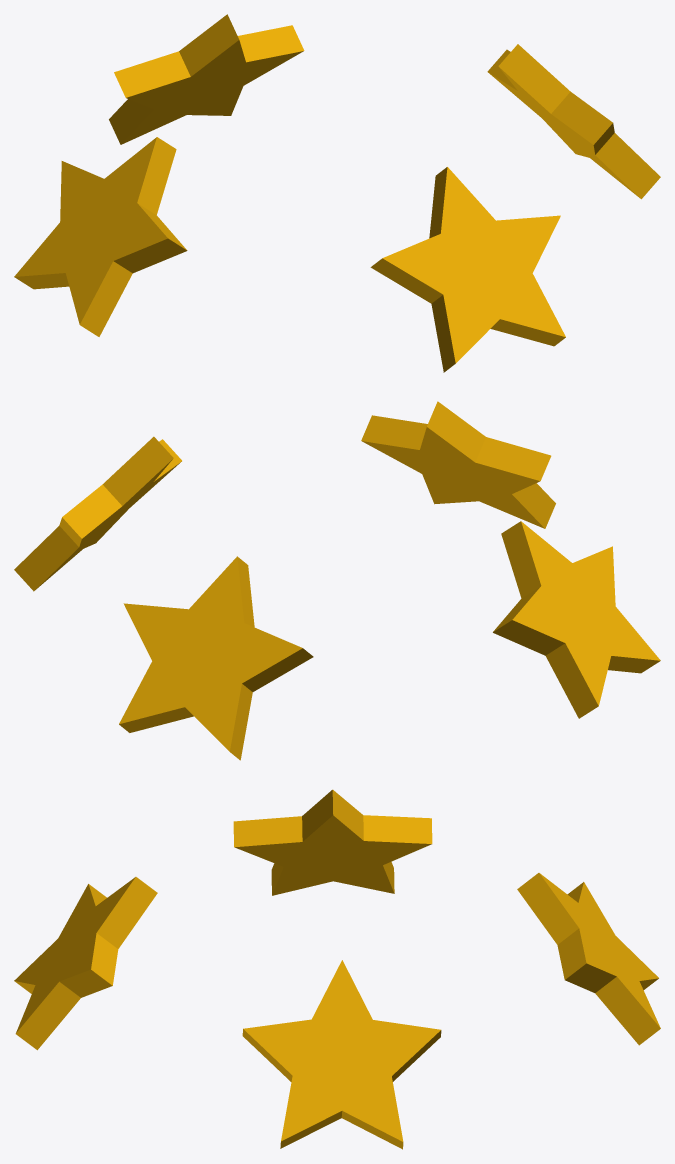
File: Star.fbx
3 views of the same model, one above another, from view 1: azimuth 30°, elevation 25°; view 2: azimuth 150°, elevation 25°; view 3: azimuth 270°, elevation 25° (orthographic). The views are drawn at different scales.
Parts seen in each view (by area): view 1: Star; view 2: Star; view 3: Star.
Boxes of the visible parts, x1=… form: Star: x1=14, y1=14, x2=660, y2=372; Star: x1=14, y1=401, x2=660, y2=760; Star: x1=14, y1=789, x2=660, y2=1149.
Bounding box in the file's own units: 143 × 36.17 × 143.
